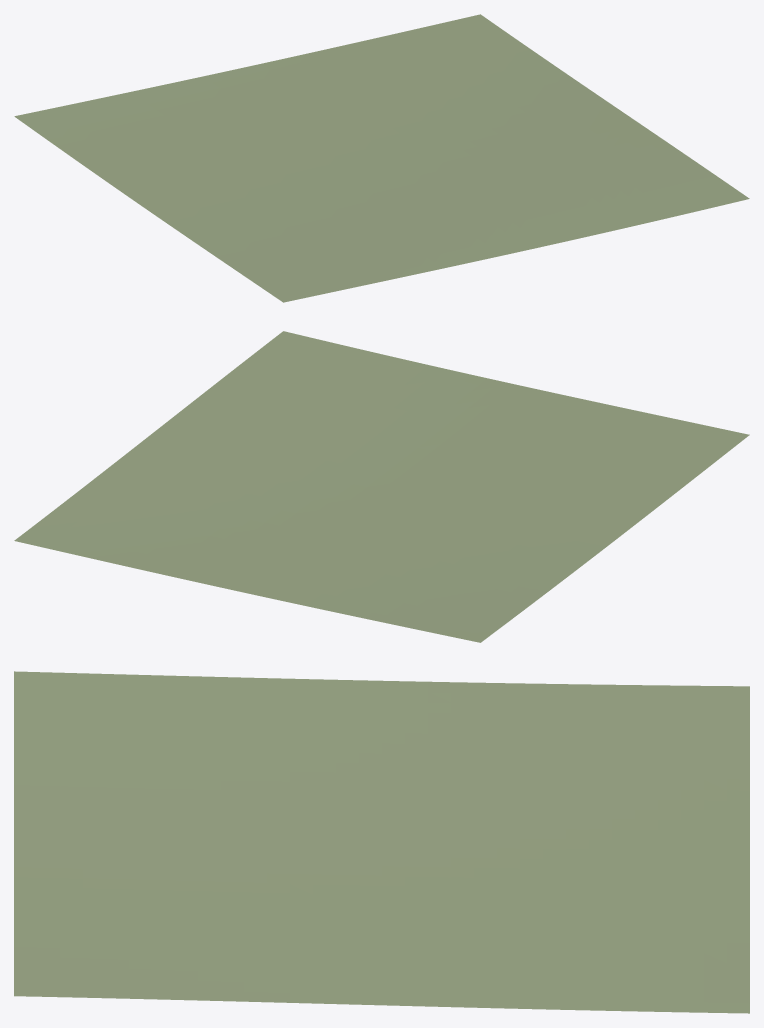
File: expanse-1-25.glb
3 renders of one model, top to bottom at view 1: azimuth 30°, elevation 25°; view 2: azimuth 150°, elevation 25°; view 3: azimuth 270°, elevation 25°, orthographic. The views are drawn at different scales.
Parts seen in each view (by area): view 1: expanse-1-25; view 2: expanse-1-25; view 3: expanse-1-25.
Part boxes in pixels (x1=…): expanse-1-25: x1=14, y1=14, x2=749, y2=302; expanse-1-25: x1=14, y1=331, x2=749, y2=642; expanse-1-25: x1=14, y1=671, x2=749, y2=1013.
Bounding box in the file's own units: 256 × 11.9 × 256.
